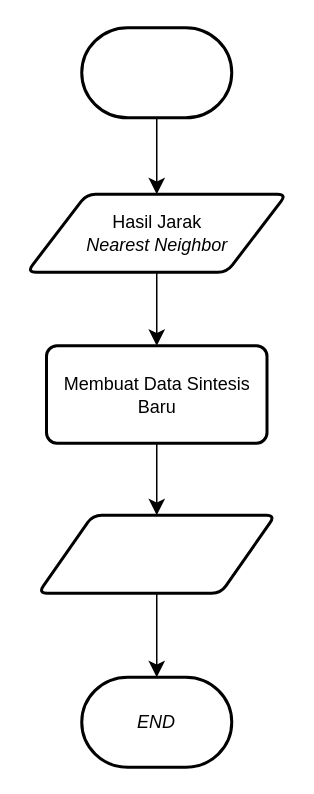
Image size: 314x794. Some labels were removed from this diagram. Here are the shapes that lost their labels. From the top down, the centre of each, then its label:
At (x=156, y=72): "START".
At (x=156, y=553): "Data Sintesis Baru".
